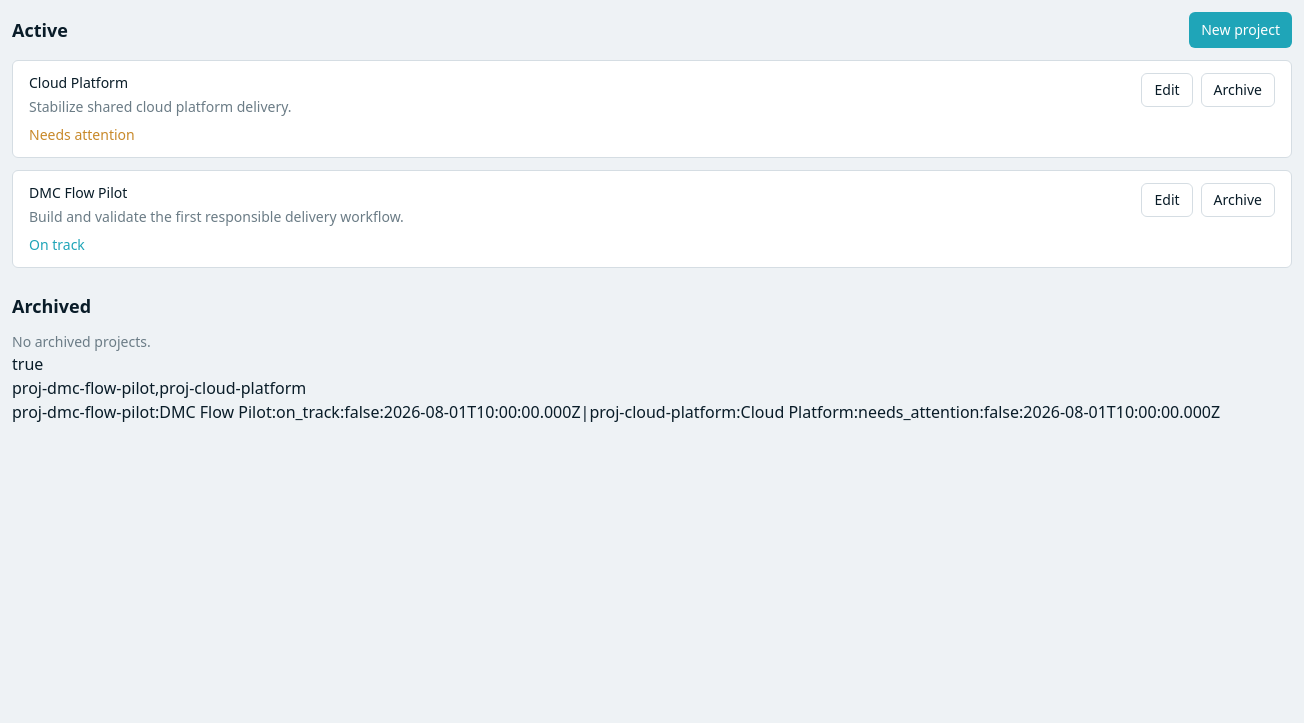
Test: ProjectsView › creates a project via the expandable form
Expected: the text with test id "hydrated" reads "true", top-left (12, 353), bottom-right (43, 375)
Click the button "New project" at (1241, 30), box top-left (1189, 12), bottom-right (1292, 48)
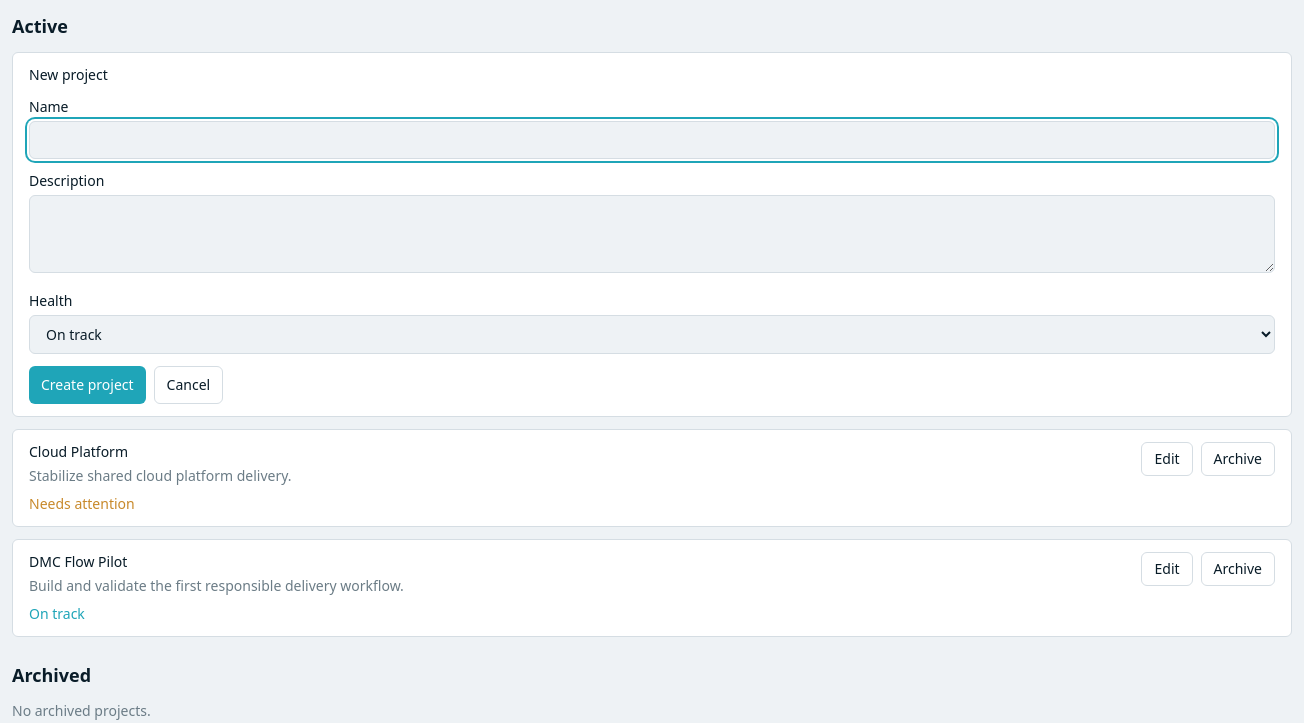
Type "  Ops Sync  " into the field labelled "Name" at (652, 140), box top-left (29, 121), bottom-right (1275, 159)
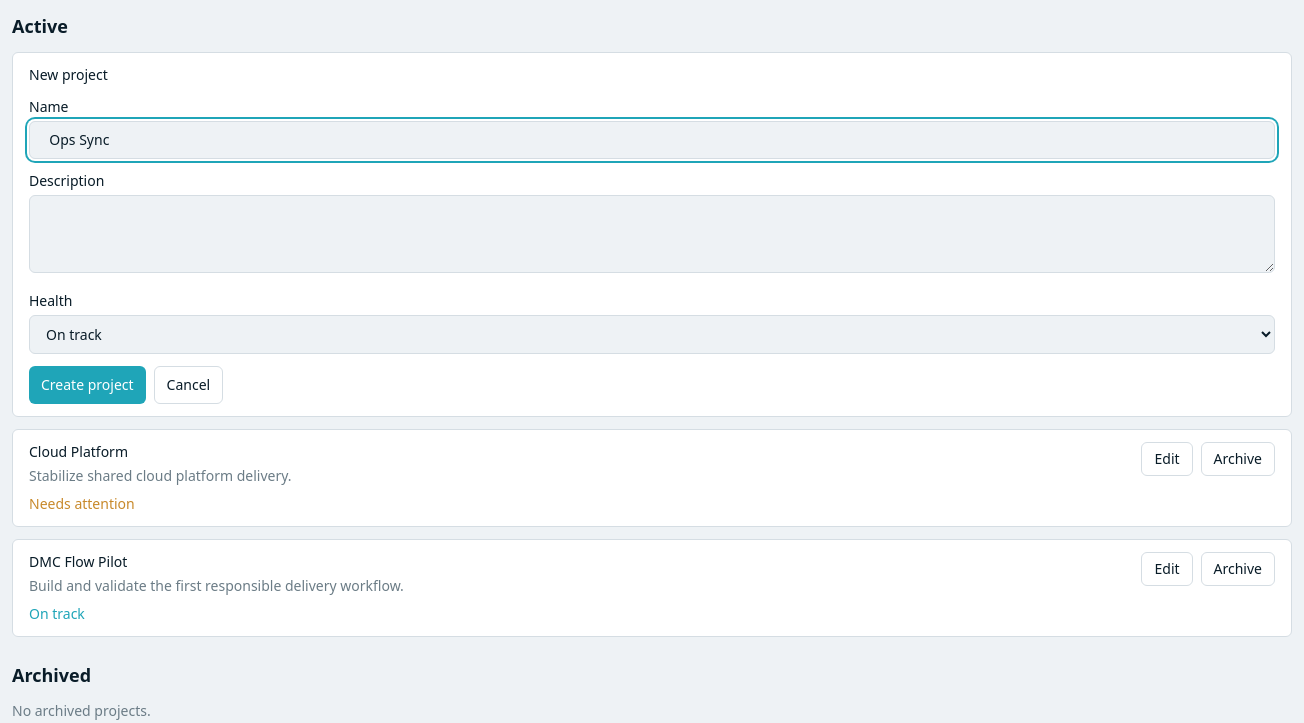
Type " Weekly ops " into the text box labelled "Description" at (652, 234), box top-left (29, 195), bottom-right (1275, 273)
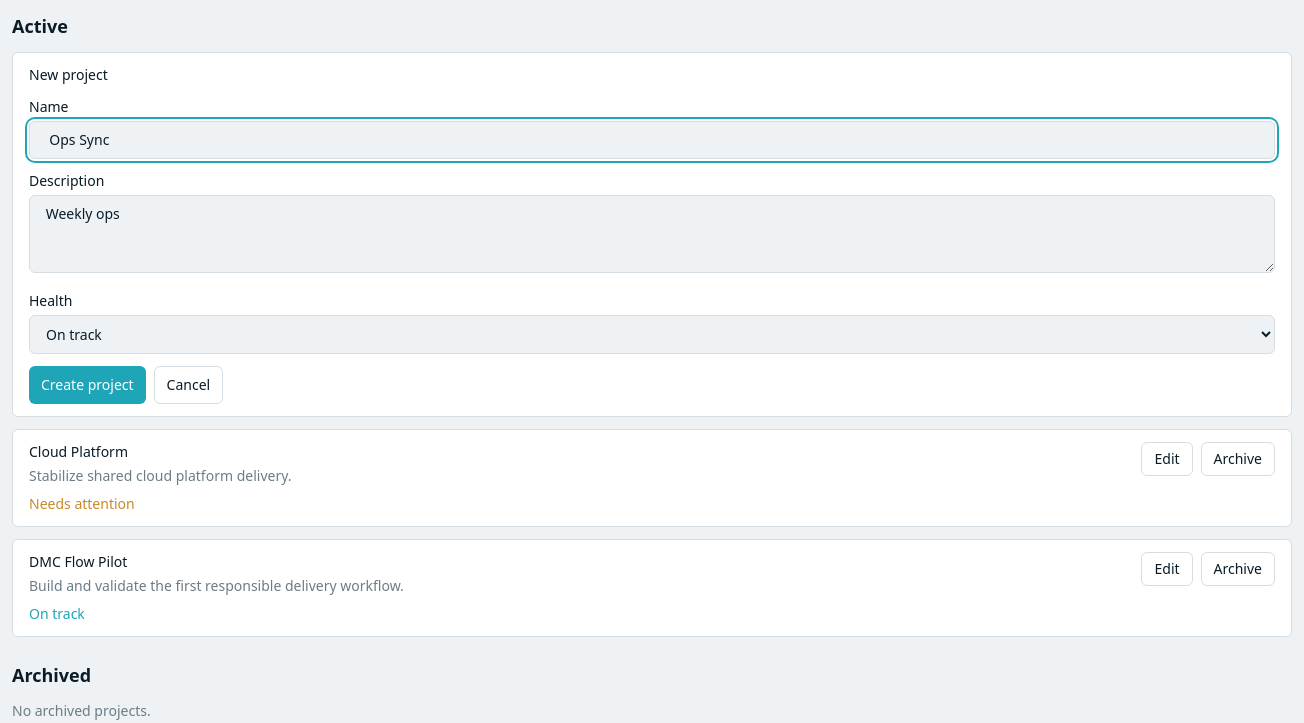
Select "Needs attention" in the dropdown labelled "Health" at (652, 334), box top-left (29, 315), bottom-right (1275, 354)
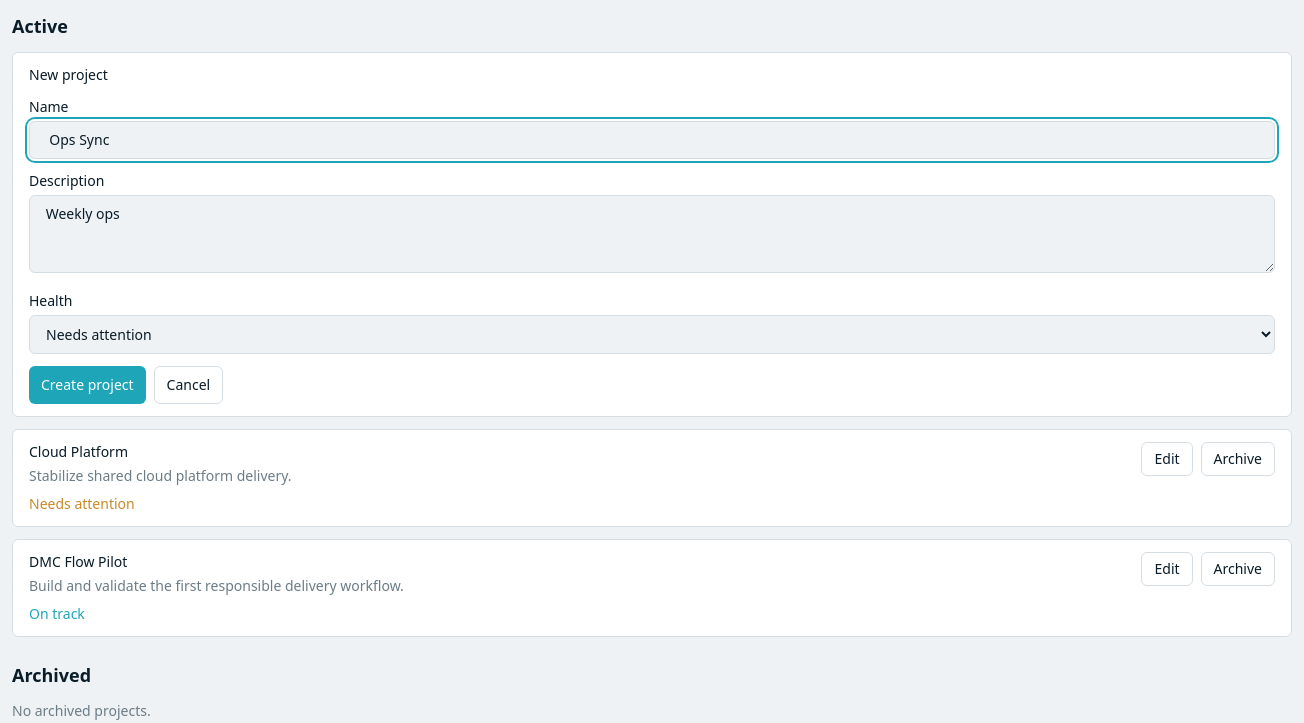
Click the button "Create project" at (87, 385), box top-left (29, 366), bottom-right (146, 404)
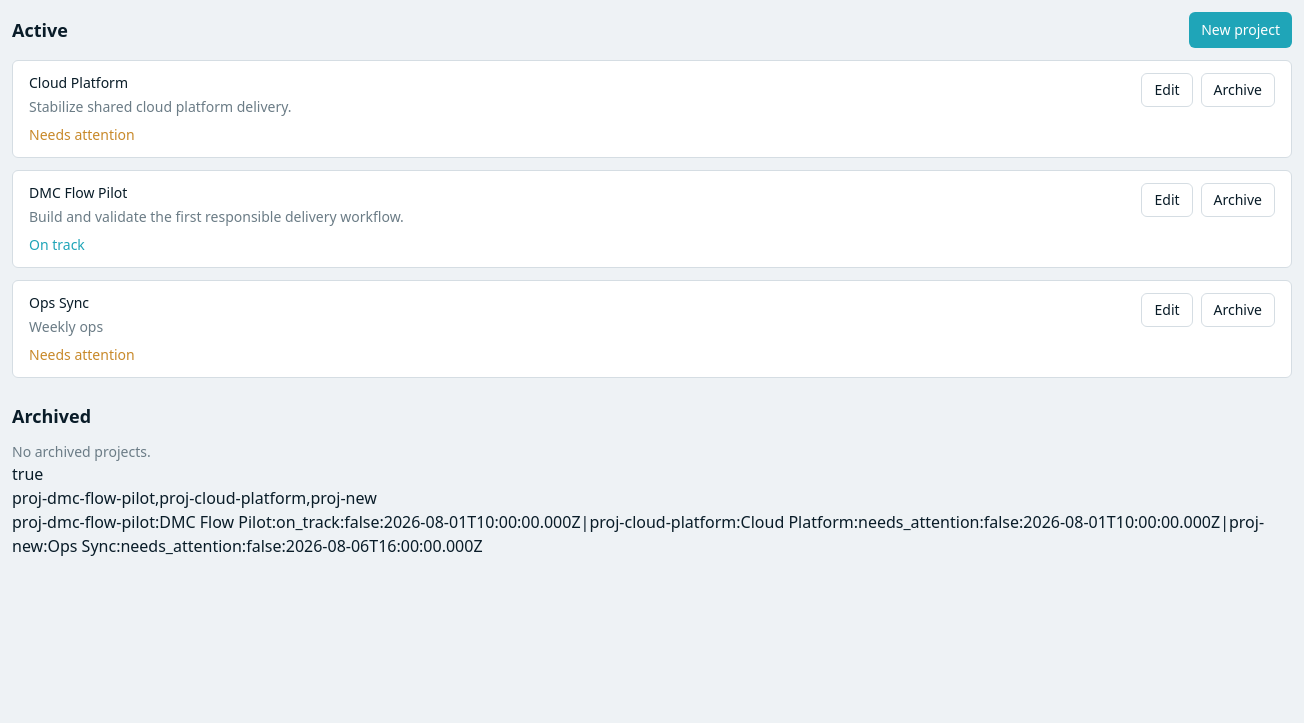
Expected: the heading "Ops Sync" is shown, top-left (29, 293), bottom-right (89, 312)
